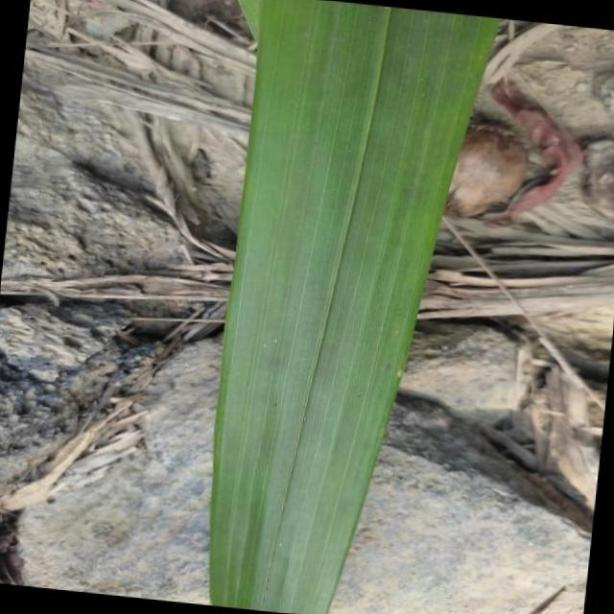Healthy: (208, 0, 491, 614)
